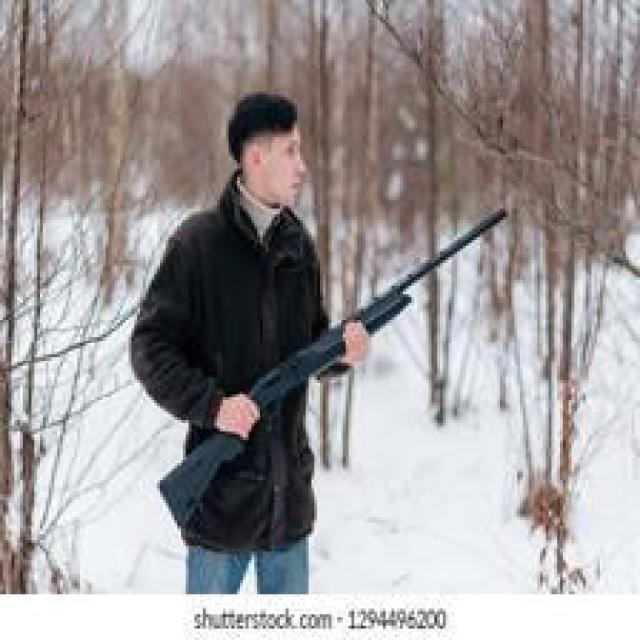Rifle: (160, 204, 511, 526)
